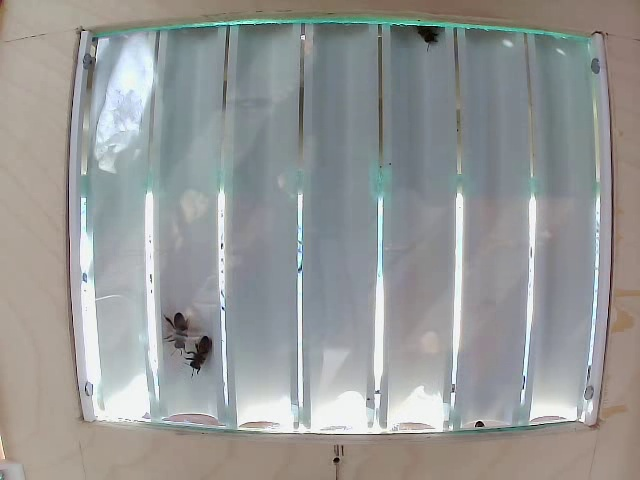bee: (158, 311, 204, 351), (196, 330, 224, 363), (419, 31, 446, 60)
